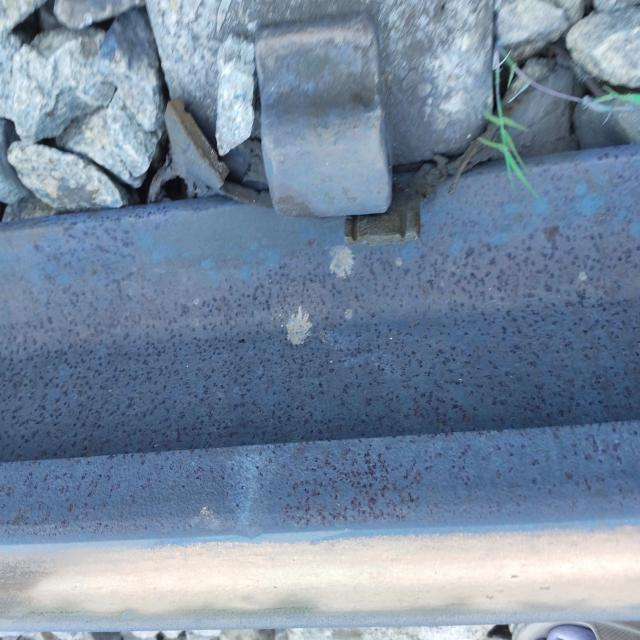Missing Fastener: (198, 26, 458, 225)
